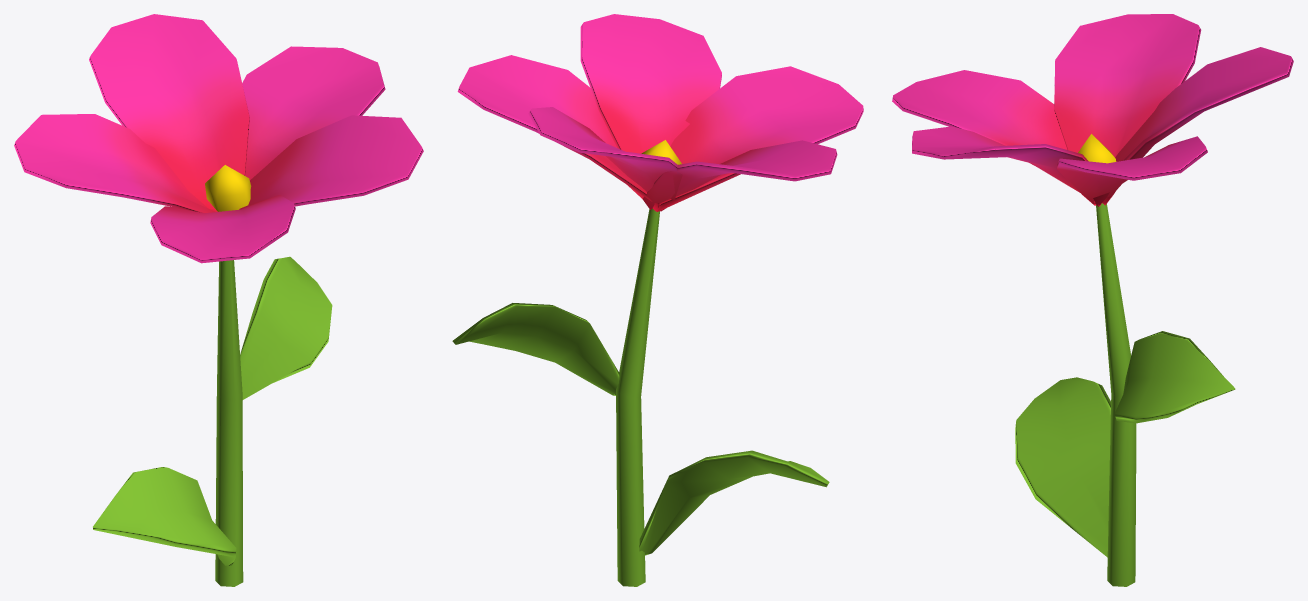
Rendered from flower.fbx.
The picture shows the model from 3 angles, left to right: view 1: azimuth 30°, elevation 25°; view 2: azimuth 150°, elevation 25°; view 3: azimuth 270°, elevation 25°; orthographic projection.
Parts seen in each view (by area): view 1: flower_mesh; view 2: flower_mesh; view 3: flower_mesh.
Part boxes in pixels (bbox=[...]): flower_mesh: bbox=[14, 14, 423, 586]; flower_mesh: bbox=[452, 14, 863, 586]; flower_mesh: bbox=[892, 14, 1293, 586].
Bounding box in the file's own units: 1.29 × 1.75 × 1.24.
